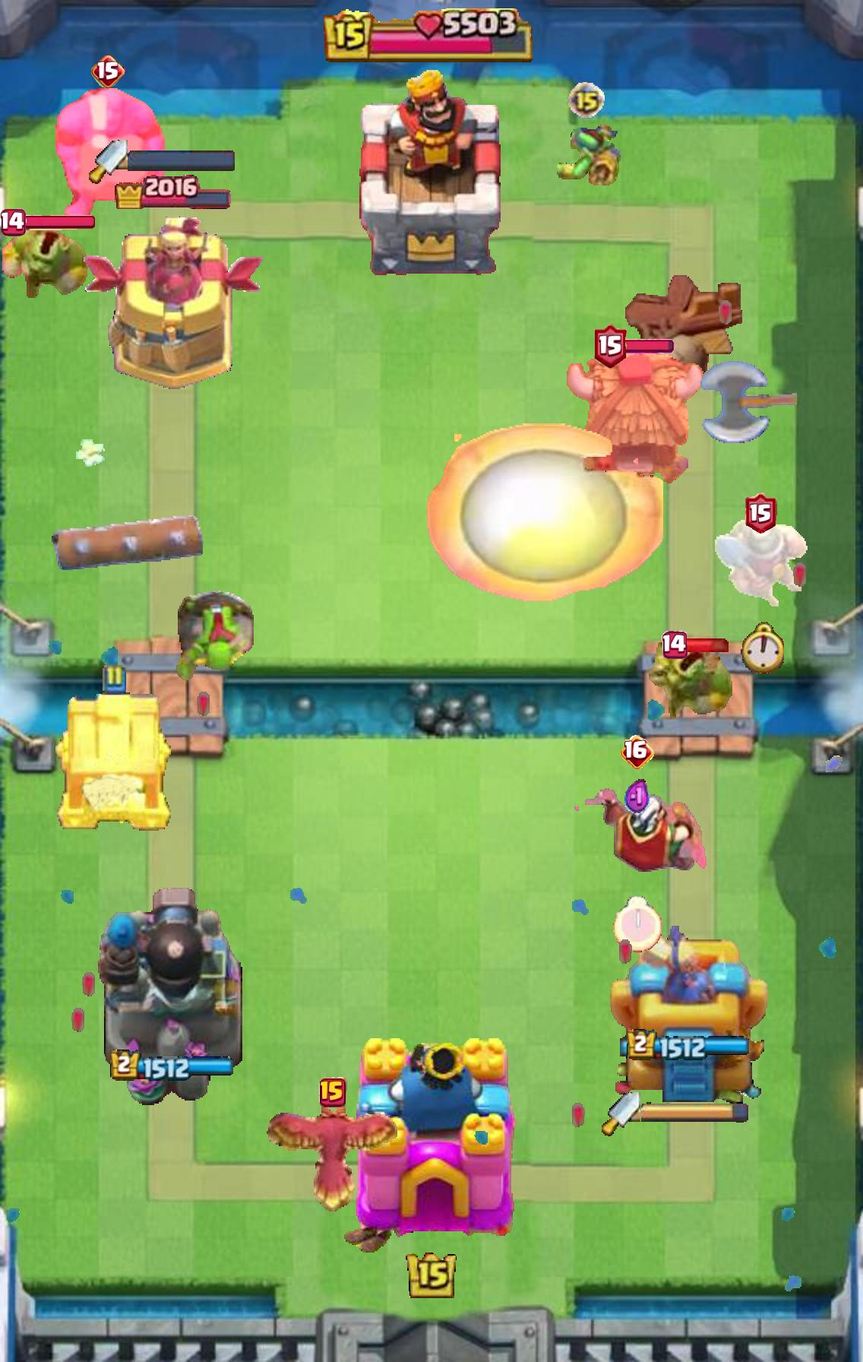bar: (22, 215, 95, 230), (624, 339, 674, 354), (684, 638, 732, 653)
bar-level: (594, 324, 627, 369), (745, 493, 777, 534), (620, 735, 655, 770), (91, 54, 125, 89), (319, 1077, 347, 1107), (0, 208, 27, 236), (662, 630, 688, 659)
